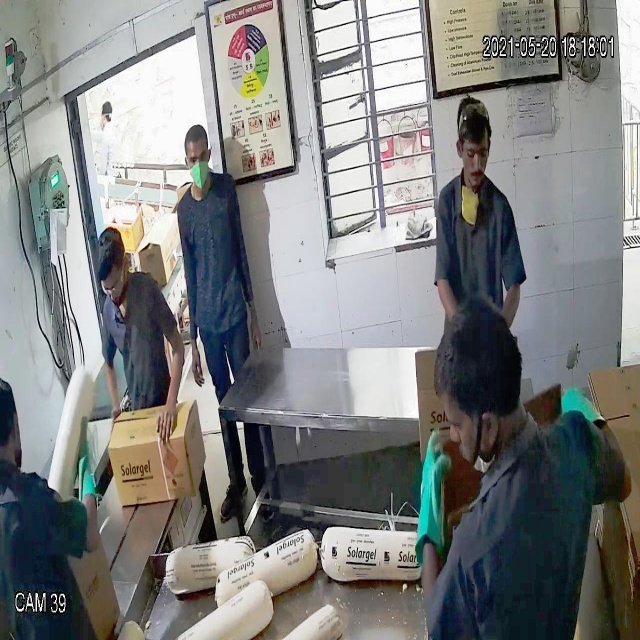Gafas: (97, 268, 129, 300)
Sin_gafas: (455, 134, 494, 167), (180, 143, 219, 174)
